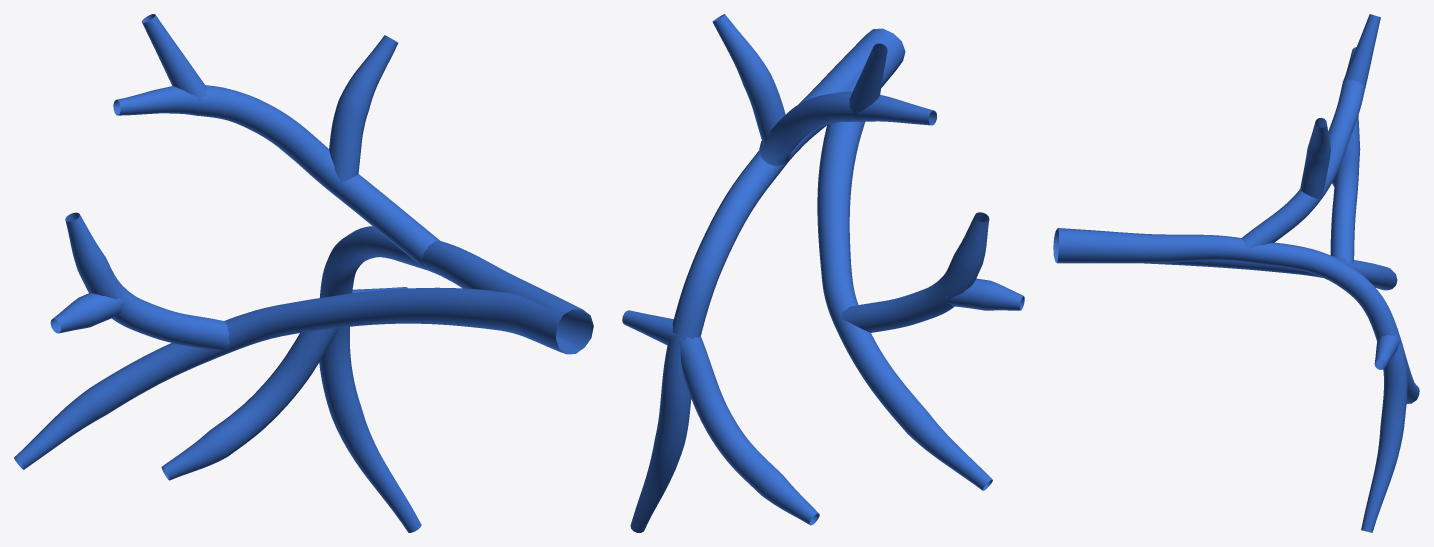
Rendered from circulatorio-superior-segmental-artery-of-right-lung.glb.
The picture shows the model from 3 angles, left to right: view 1: azimuth 30°, elevation 25°; view 2: azimuth 150°, elevation 25°; view 3: azimuth 270°, elevation 25°; orthographic projection. The views are drawn at different scales.
Parts seen in each view (by area): view 1: Superior segmental artery of right lung; view 2: Superior segmental artery of right lung; view 3: Superior segmental artery of right lung.
Part boxes in pixels (bbox=[...]): Superior segmental artery of right lung: bbox=[14, 14, 593, 532]; Superior segmental artery of right lung: bbox=[622, 14, 1024, 532]; Superior segmental artery of right lung: bbox=[1053, 14, 1419, 532].
Bounding box in the file's own units: 0.0566 × 0.0796 × 0.0619.
